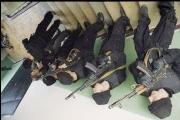gun: (108, 61, 168, 108), (64, 54, 108, 100)
